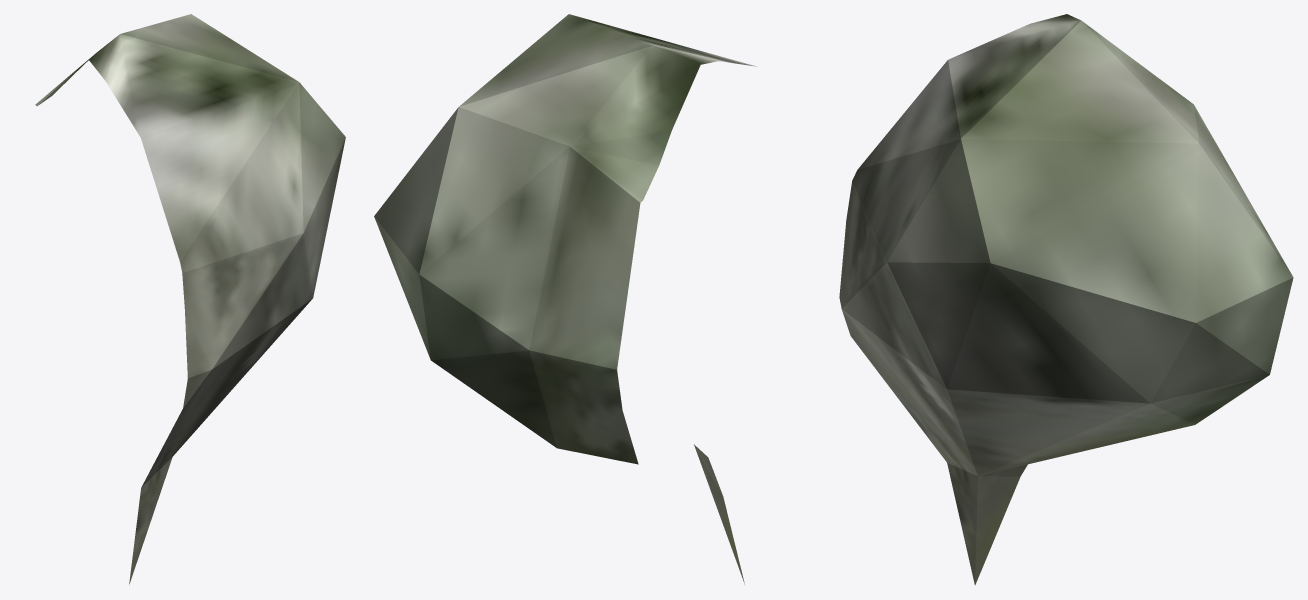
The picture shows the model from 3 angles, left to right: view 1: azimuth 30°, elevation 25°; view 2: azimuth 150°, elevation 25°; view 3: azimuth 270°, elevation 25°; orthographic projection. The views are drawn at different scales.
Size of the model in its own units: 0.2269 by 0.4658 by 0.3268.
1 material, 1 textured.
